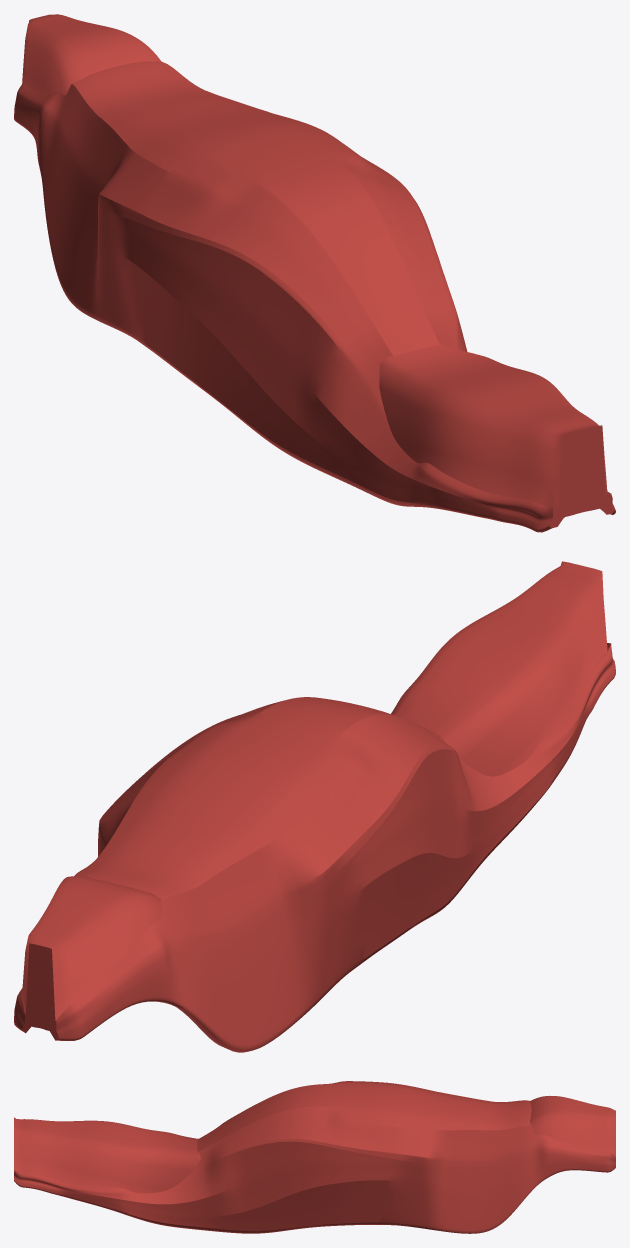
The model's file is adventure_5.glb.
3 renders of one model, top to bottom at view 1: azimuth 30°, elevation 25°; view 2: azimuth 150°, elevation 25°; view 3: azimuth 270°, elevation 25°, orthographic. The views are drawn at different scales.
Visible parts, largest first — view 1: lod0; view 2: lod0; view 3: lod0.
Part boxes in pixels (x1,y1,x2,y2): lod0: (14,14,615,532); lod0: (14,561,615,1052); lod0: (14,1081,615,1233).
Size of what is drawn, in the model's own units: 0.3972 by 0.3451 by 1.57.
